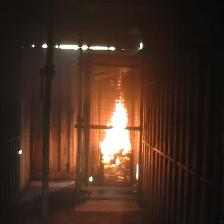fire: (99, 91, 132, 165)
